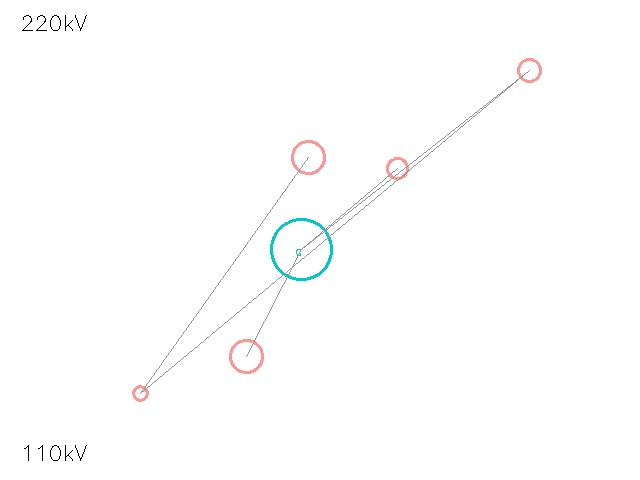current_transformer: (276, 125, 340, 189)
disconnect_switch: (125, 378, 155, 408)
fuse: (376, 147, 418, 189)
generator: (271, 219, 331, 279)
load_break_switch: (507, 48, 551, 92)
voltage_transformer: (214, 324, 278, 388)
